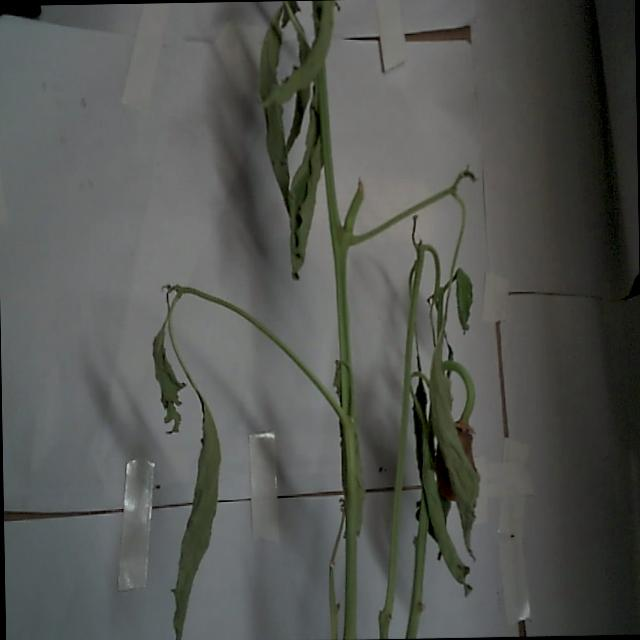Leaf: (164, 365, 221, 640), (412, 371, 472, 592), (285, 97, 326, 272), (150, 296, 184, 431), (256, 8, 286, 112)
